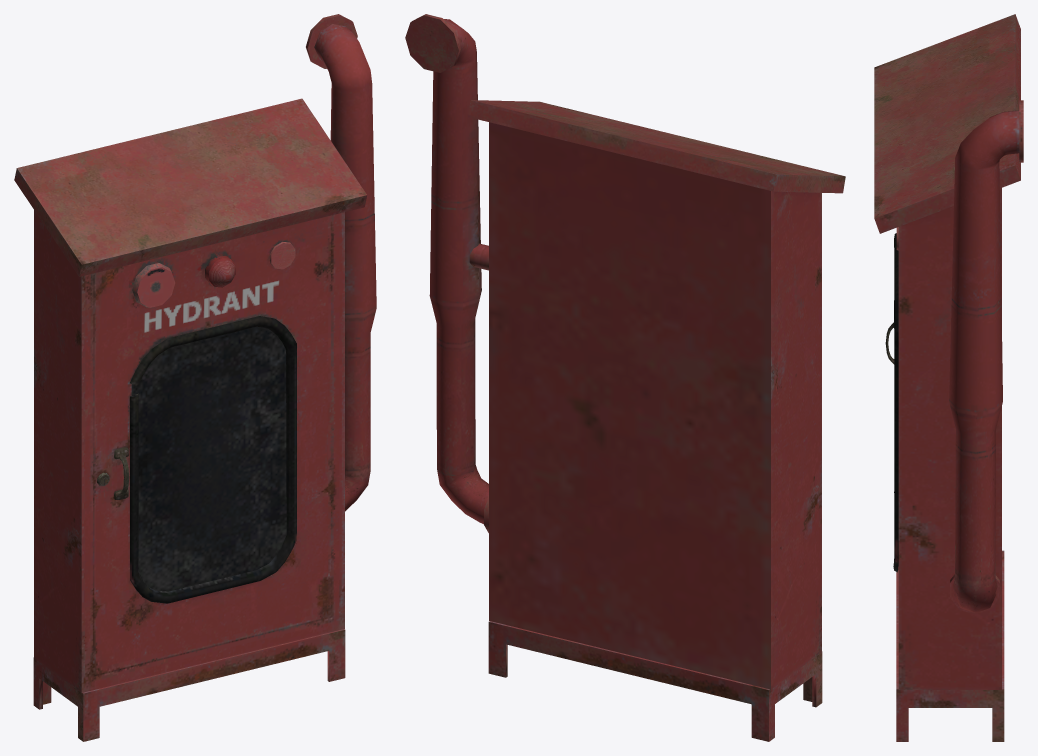
File: sm21_001_firehydrant01a.fbx
The picture shows the model from 3 angles, left to right: view 1: azimuth 30°, elevation 25°; view 2: azimuth 150°, elevation 25°; view 3: azimuth 270°, elevation 25°; orthographic projection. The views are drawn at different scales.
Visible parts, largest first — view 1: LOD_1_Group_0_Sub_1__sm21_001_FireHydrant01A_A_Mat__Env_defa, LOD_1_Group_10_Sub_1__sm21_001_FireHydrant01A_A_Mat__Env_Alp, LOD_1_Group_3_Sub_1__sm21_001_FireHydrant01A_A_Mat__Env_defa, LOD_1_Group_2_Sub_1__sm21_001_FireHydrant01A_A_Mat__Env_defa, LOD_1_Group_11_Sub_1__sm21_001_FireHydrant01A_A_Mat__Env_def, LOD_1_Group_4_Sub_1__sm21_001_FireHydrant01A_A_Mat__Env_defa, LOD_1_Group_9_Sub_1__sm21_001_FireHydrant01A_A_Mat__Env_Emis; view 2: LOD_1_Group_0_Sub_1__sm21_001_FireHydrant01A_A_Mat__Env_defa, LOD_1_Group_3_Sub_1__sm21_001_FireHydrant01A_A_Mat__Env_defa, LOD_1_Group_2_Sub_1__sm21_001_FireHydrant01A_A_Mat__Env_defa, LOD_1_Group_4_Sub_1__sm21_001_FireHydrant01A_A_Mat__Env_defa; view 3: LOD_1_Group_0_Sub_1__sm21_001_FireHydrant01A_A_Mat__Env_defa, LOD_1_Group_3_Sub_1__sm21_001_FireHydrant01A_A_Mat__Env_defa, LOD_1_Group_2_Sub_1__sm21_001_FireHydrant01A_A_Mat__Env_defa, LOD_1_Group_4_Sub_1__sm21_001_FireHydrant01A_A_Mat__Env_defa.
Boxes of the visible parts, x1,y1,x2,y2 form: LOD_1_Group_0_Sub_1__sm21_001_FireHydrant01A_A_Mat__Env_defa: [14, 98, 367, 692]; LOD_1_Group_10_Sub_1__sm21_001_FireHydrant01A_A_Mat__Env_Alp: [131, 327, 286, 591]; LOD_1_Group_3_Sub_1__sm21_001_FireHydrant01A_A_Mat__Env_defa: [314, 24, 376, 511]; LOD_1_Group_2_Sub_1__sm21_001_FireHydrant01A_A_Mat__Env_defa: [33, 629, 345, 741]; LOD_1_Group_11_Sub_1__sm21_001_FireHydrant01A_A_Mat__Env_def: [132, 242, 295, 307]; LOD_1_Group_4_Sub_1__sm21_001_FireHydrant01A_A_Mat__Env_defa: [306, 14, 357, 68]; LOD_1_Group_9_Sub_1__sm21_001_FireHydrant01A_A_Mat__Env_Emis: [205, 255, 235, 287]; LOD_1_Group_0_Sub_1__sm21_001_FireHydrant01A_A_Mat__Env_defa: [468, 100, 845, 689]; LOD_1_Group_3_Sub_1__sm21_001_FireHydrant01A_A_Mat__Env_defa: [429, 19, 488, 524]; LOD_1_Group_2_Sub_1__sm21_001_FireHydrant01A_A_Mat__Env_defa: [488, 621, 822, 741]; LOD_1_Group_4_Sub_1__sm21_001_FireHydrant01A_A_Mat__Env_defa: [405, 14, 488, 532]; LOD_1_Group_0_Sub_1__sm21_001_FireHydrant01A_A_Mat__Env_defa: [874, 14, 1020, 689]; LOD_1_Group_3_Sub_1__sm21_001_FireHydrant01A_A_Mat__Env_defa: [949, 110, 1019, 613]; LOD_1_Group_2_Sub_1__sm21_001_FireHydrant01A_A_Mat__Env_defa: [896, 550, 1004, 741]; LOD_1_Group_4_Sub_1__sm21_001_FireHydrant01A_A_Mat__Env_defa: [950, 100, 1023, 614].
Bounding box in the file's own units: 0.9347 × 1.59 × 0.3242.
